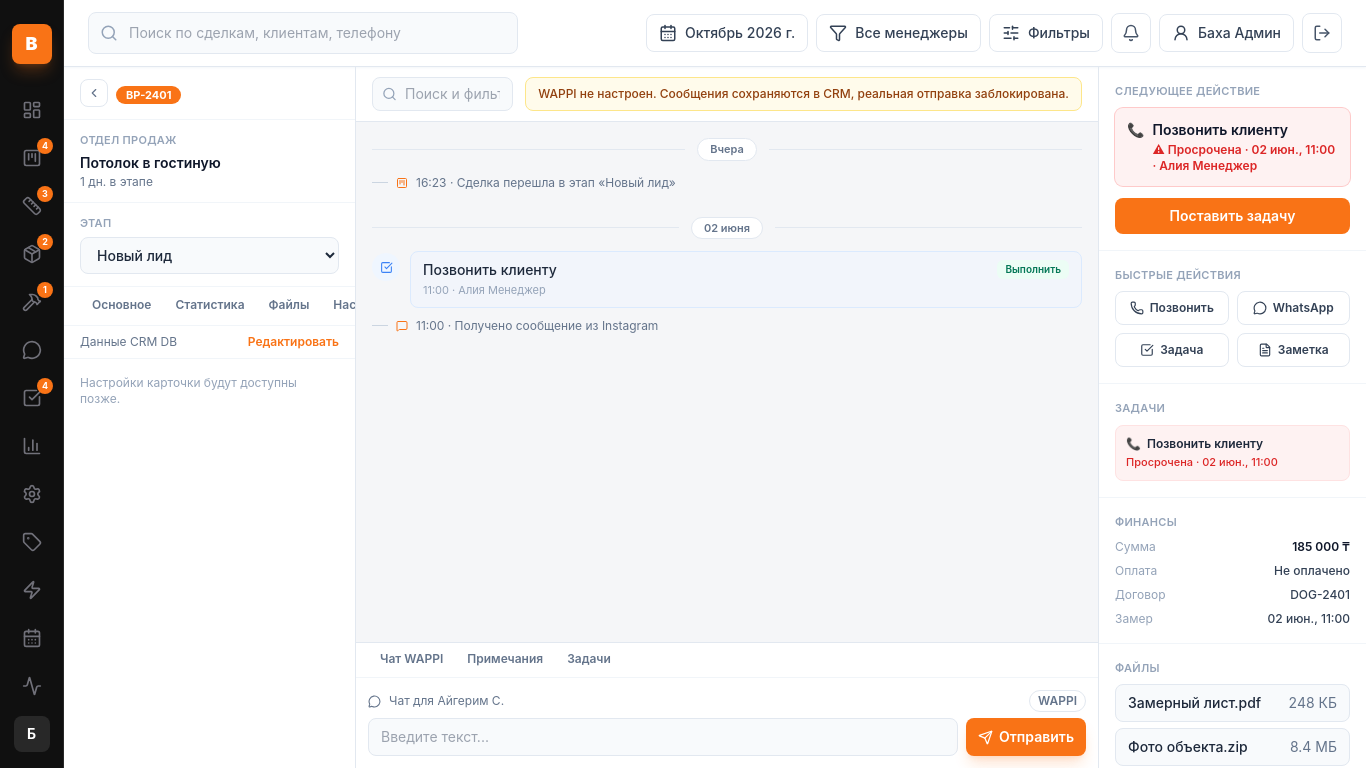
Test: Bakha CRM smoke › runs lead detail CRUD smoke actions
Expected: the text "Следующее действие" is shown, top-left (1115, 84), bottom-right (1260, 98)
Select "Неразобранное" in the dropdown: (210, 256) top-left (80, 237), bottom-right (339, 274)
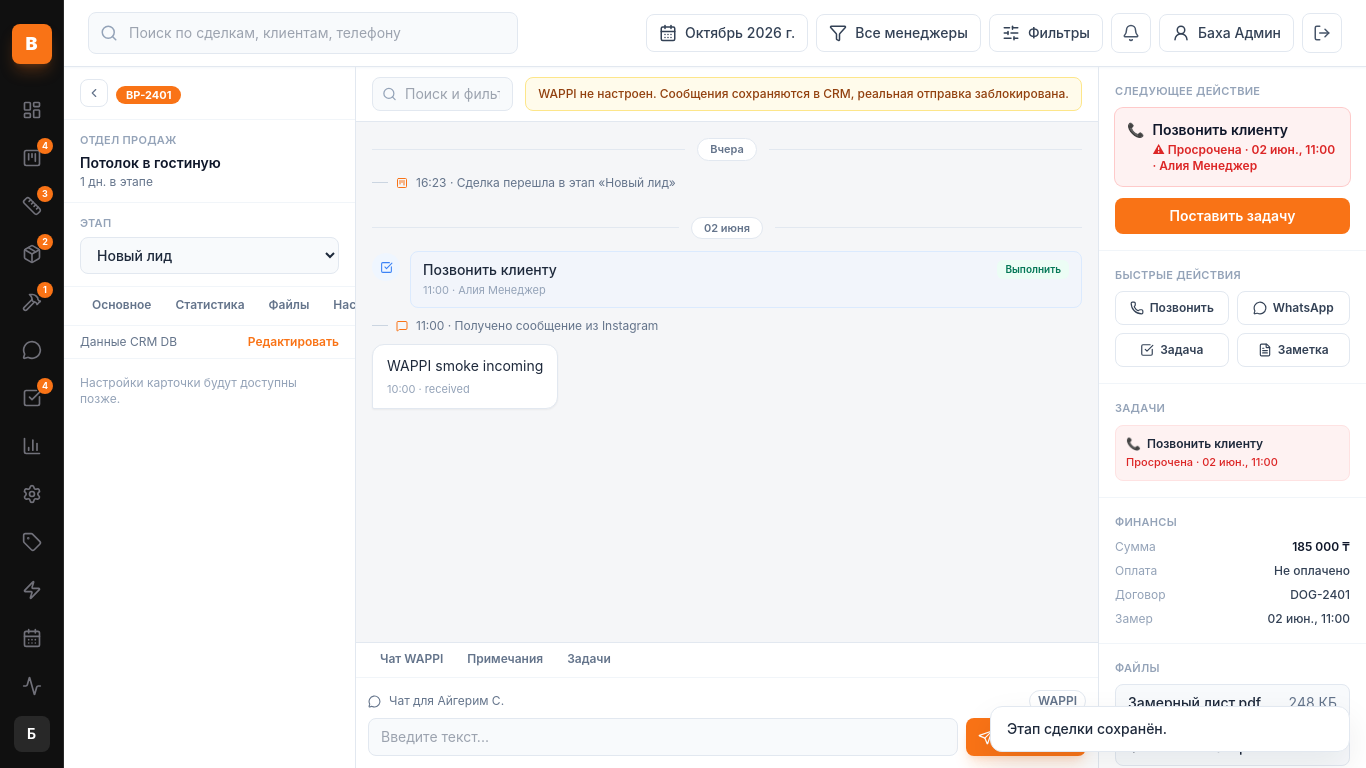
Expected: the text "Этап сделки сохранён." is shown, top-left (990, 706), bottom-right (1350, 752)
Click the button "Примечания": (505, 660) top-left (455, 643), bottom-right (555, 677)
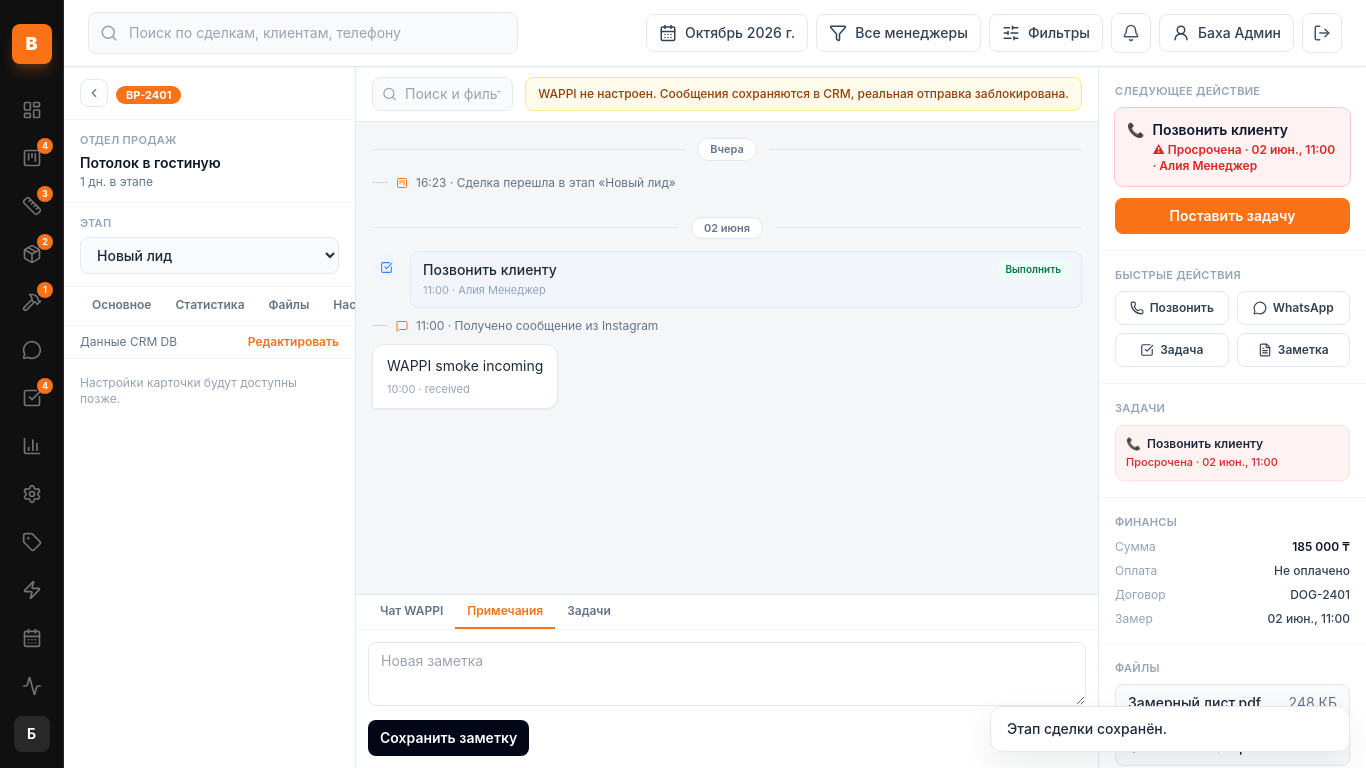
In the text box with placeholder "Новая заметка": (727, 674) top-left (368, 642), bottom-right (1086, 706), type "Smoke note"
Click the button "Сохранить заметку": (449, 738) top-left (368, 720), bottom-right (529, 756)
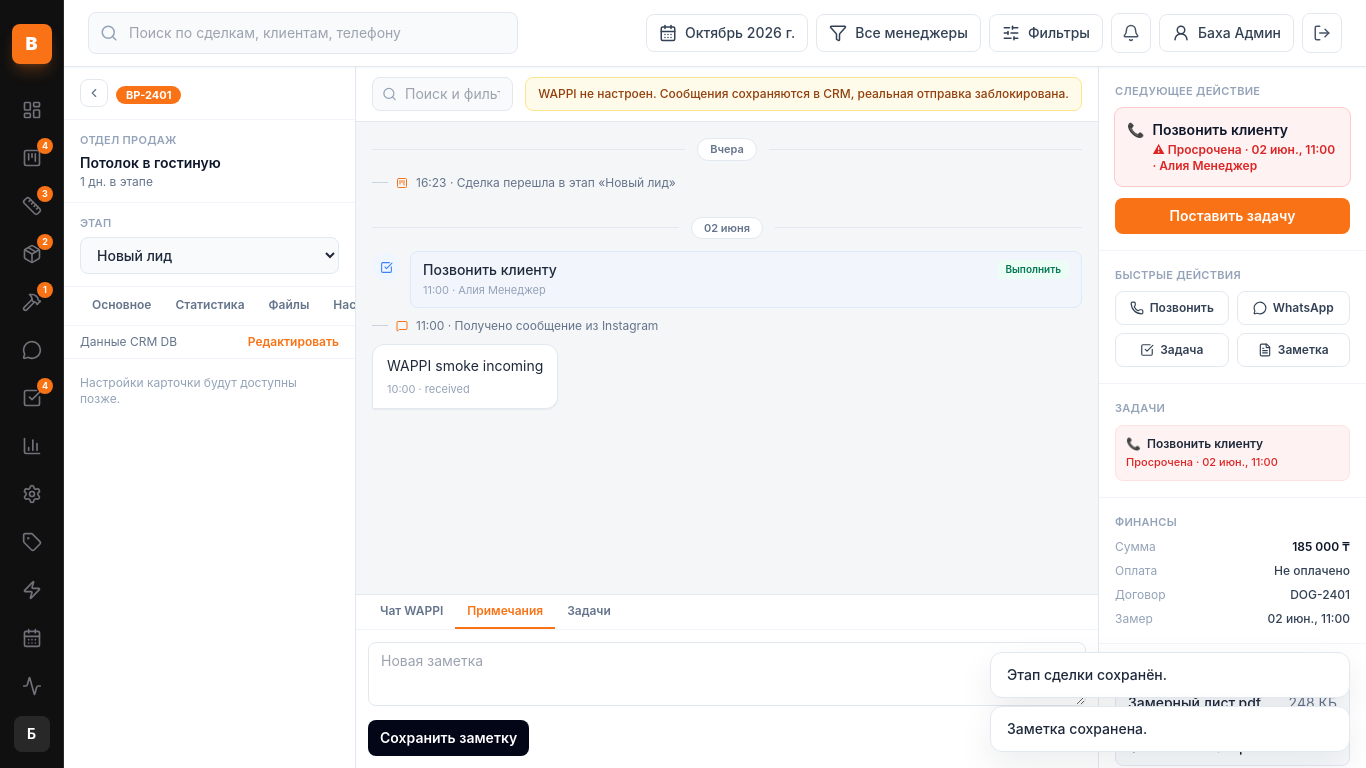
Expected: the text "Заметка сохранена." is shown, top-left (990, 706), bottom-right (1350, 752)
Click the button "Задачи": (589, 612) top-left (555, 595), bottom-right (623, 629)
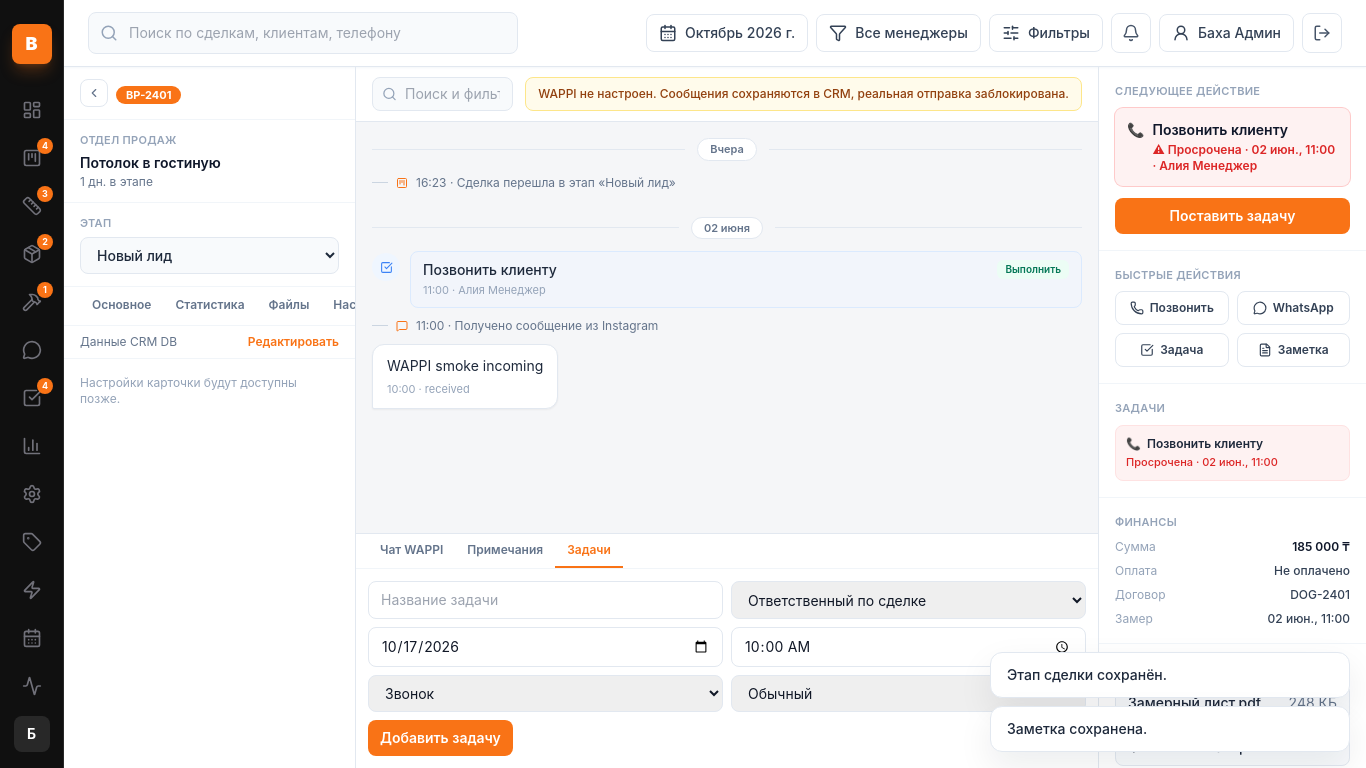
In the field with placeholder "Название задачи": (546, 600) top-left (368, 581), bottom-right (723, 619), type "Smoke task"
Click the button "Добавить задачу": (440, 738) top-left (368, 720), bottom-right (513, 756)
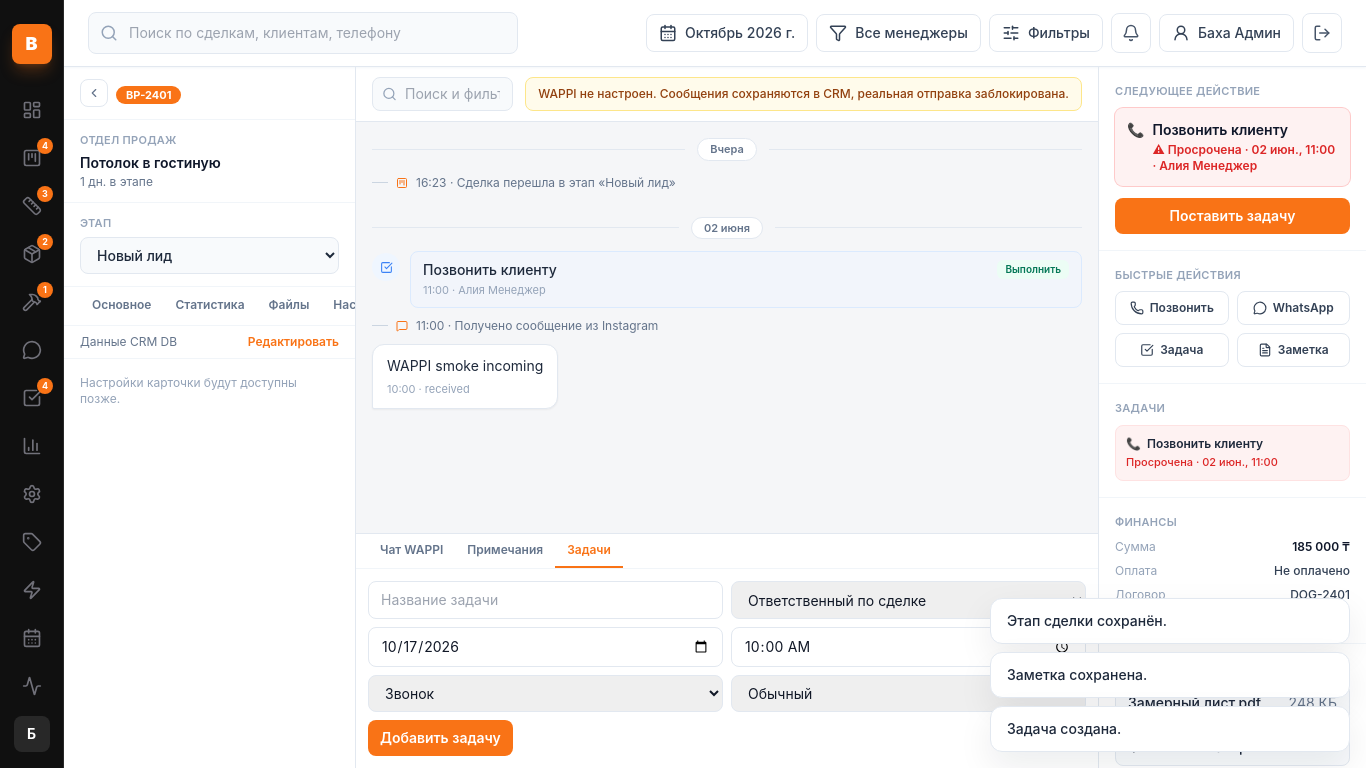
Expected: the text "Задача создана." is shown, top-left (990, 706), bottom-right (1350, 752)
Click the button "Выполнить": (1033, 270) top-left (997, 260), bottom-right (1069, 279)
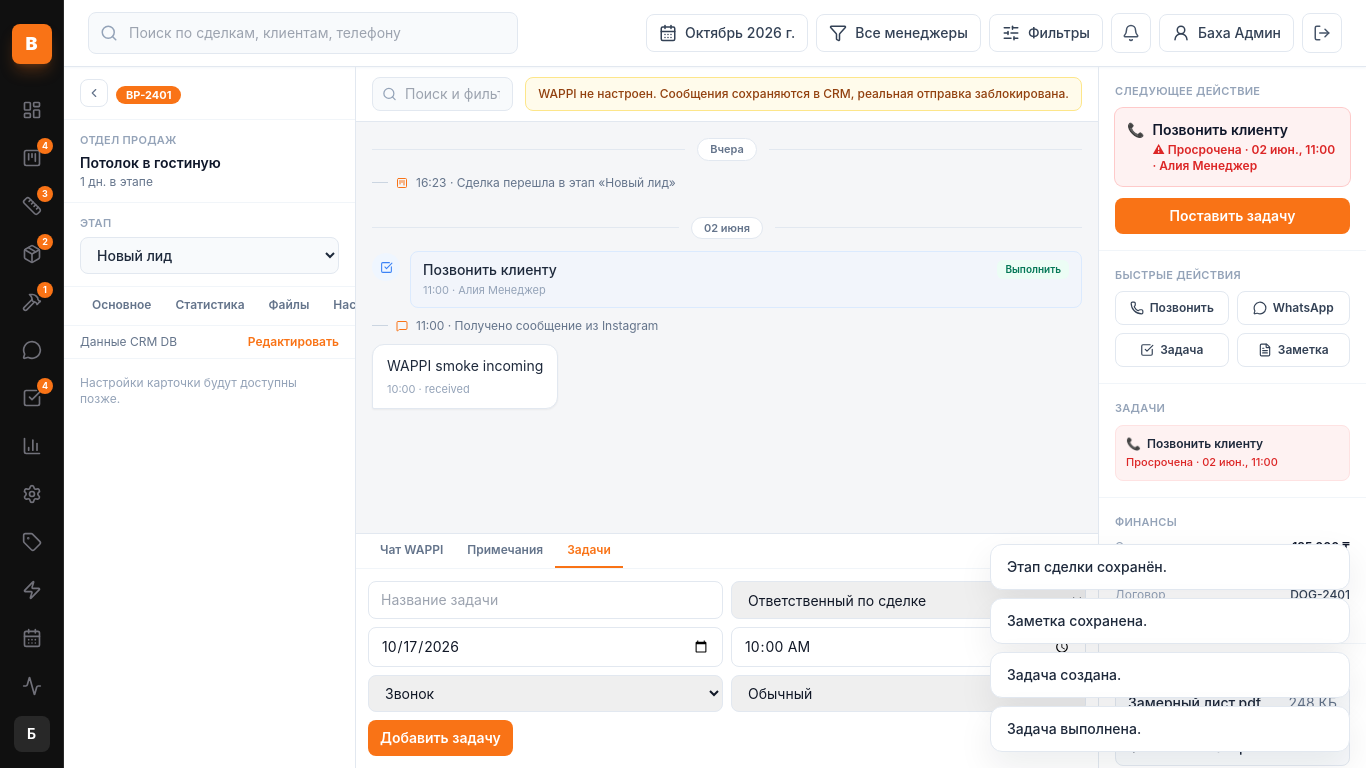
Expected: the text "Задача выполнена." is shown, top-left (990, 706), bottom-right (1350, 752)
